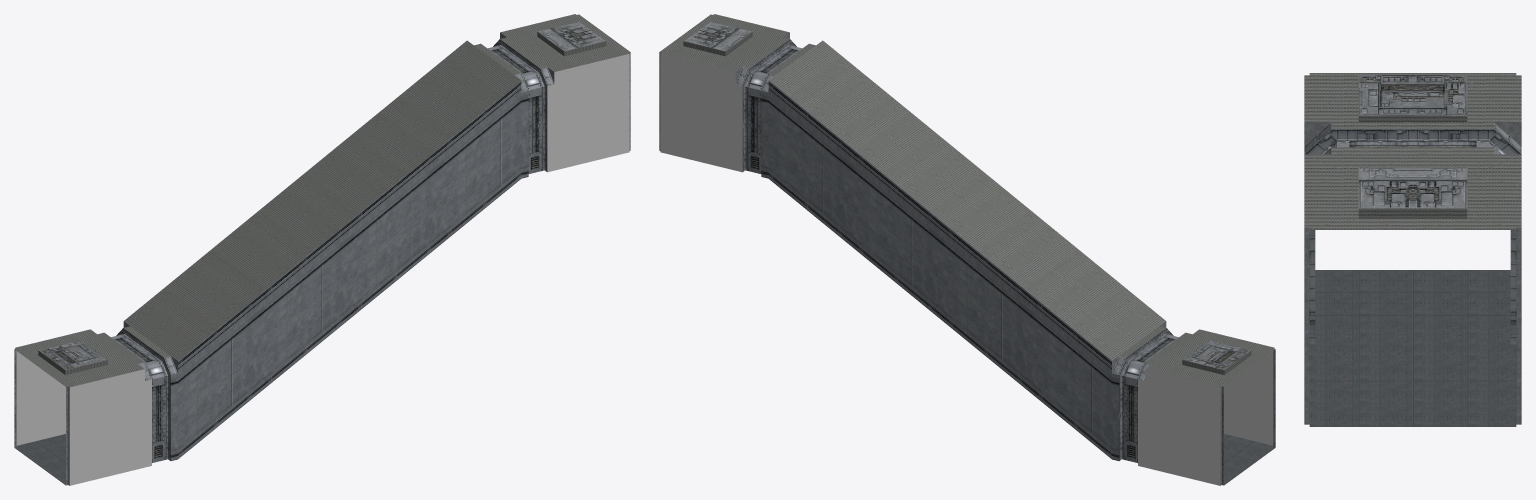
Rendered from poi_all_impl_bunker_research_facility_s01_r15_hall_mesh.fbx.
The picture shows the model from 3 angles, left to right: view 1: azimuth 30°, elevation 25°; view 2: azimuth 150°, elevation 25°; view 3: azimuth 270°, elevation 25°; orthographic projection. The views are drawn at different scales.
Parts seen in each view (by area): view 1: mesh_node; view 2: mesh_node; view 3: mesh_node.
Boxes of the visible parts, box(x1,y1,x2,y2) form: mesh_node: box(14, 14, 630, 485); mesh_node: box(659, 14, 1275, 485); mesh_node: box(1304, 73, 1521, 426).
Bounding box in the file's own units: 24 × 12.2 × 4.
